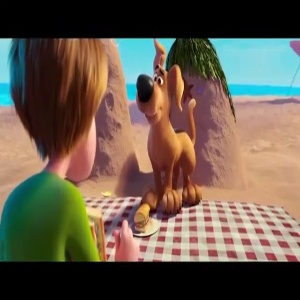Scooby: (132, 47, 184, 130)
